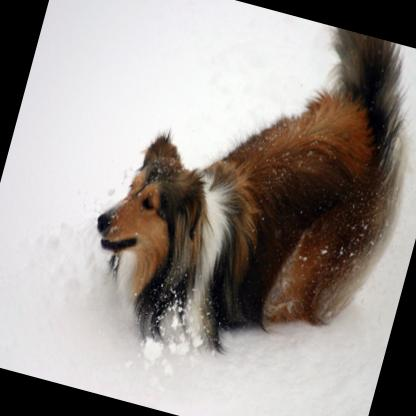Shetland_sheepdog: (69, 0, 416, 392)
